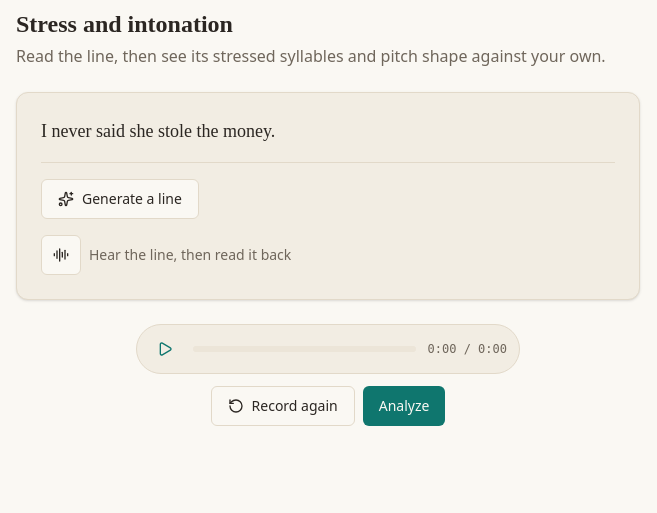
Scenario: StressIntonation › should surface the too-weak reason instead of the generic failure
The width and height of the screenshot is (657, 513).
Click the button "Analyze" at coordinates (404, 406), box x1=363 y1=386 x2=445 y2=426
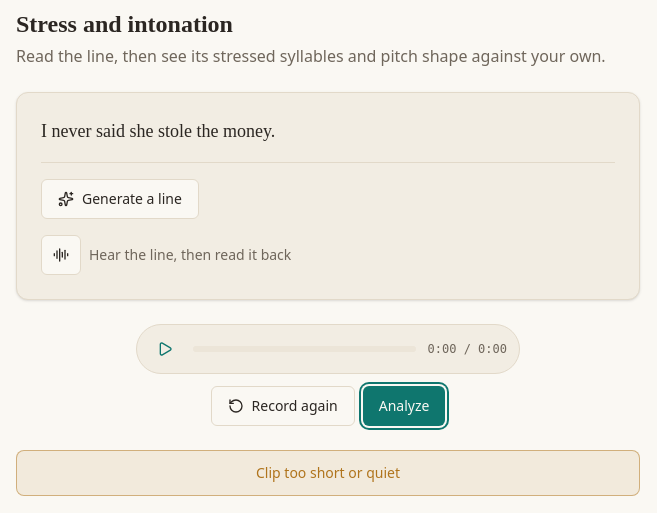
Expected: the message shows "too short or quiet", x1=256 y1=463 x2=400 y2=482
